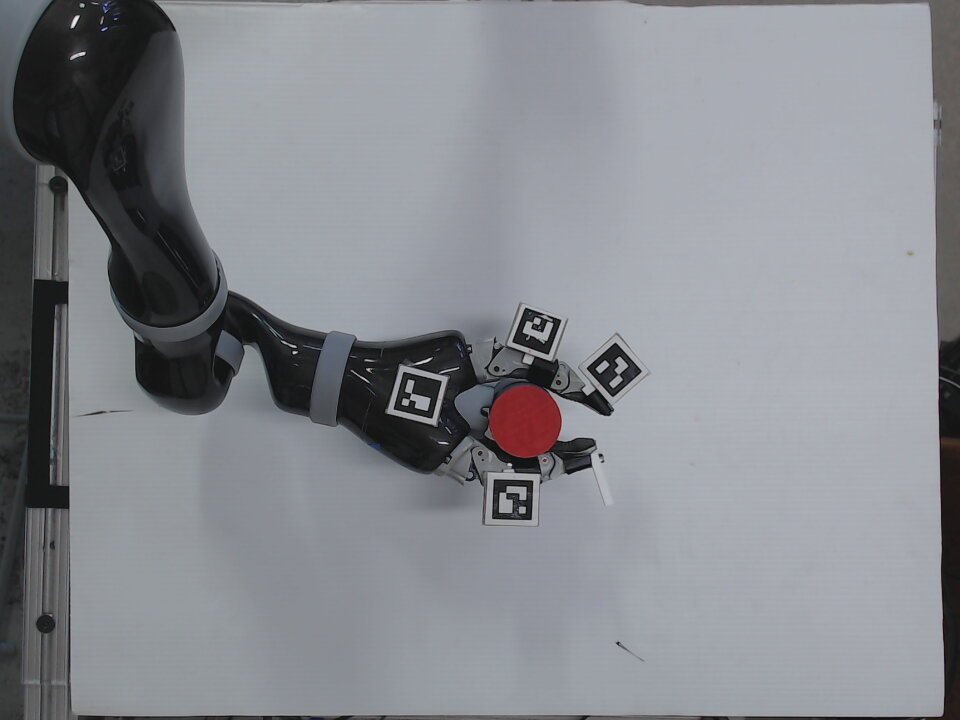cylinder: (485, 374, 565, 463)
